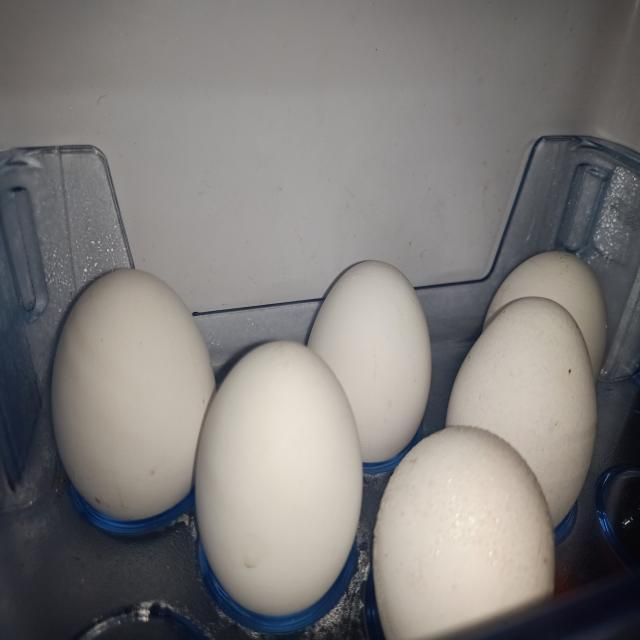Egg: (195, 341, 363, 616), (51, 269, 215, 521), (374, 426, 555, 639), (447, 297, 598, 527), (308, 260, 432, 463), (484, 251, 608, 380)
